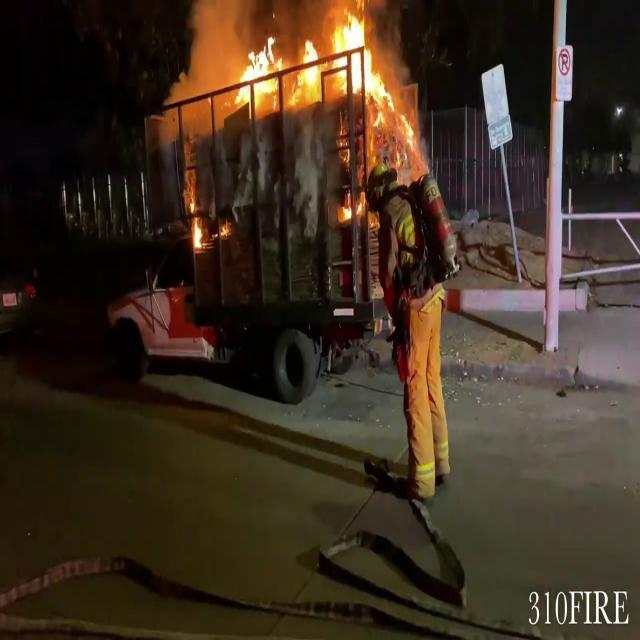Fire: (292, 0, 422, 183), (235, 34, 288, 124), (190, 212, 207, 256)
Smoke: (162, 0, 270, 121)
